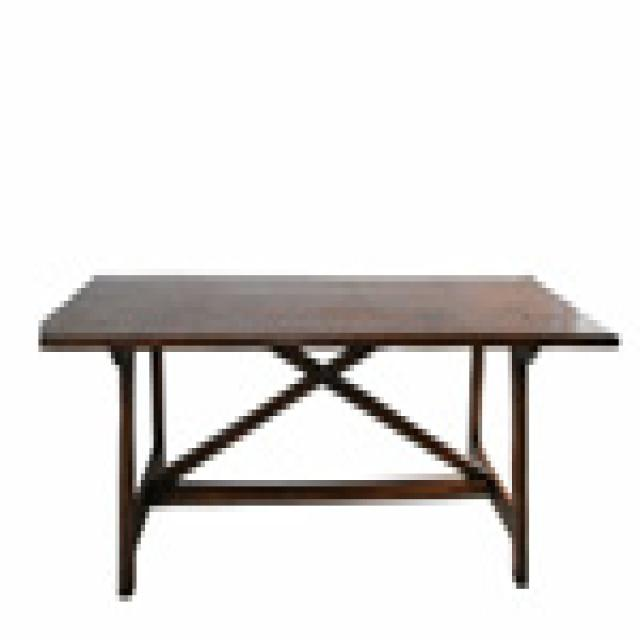table: (39, 270, 621, 591)
